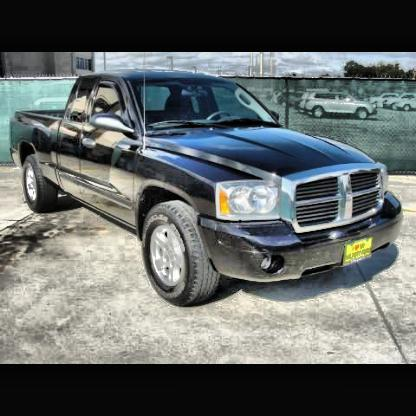Dodge Dakota Club Cab 2007: (8, 68, 406, 310)
